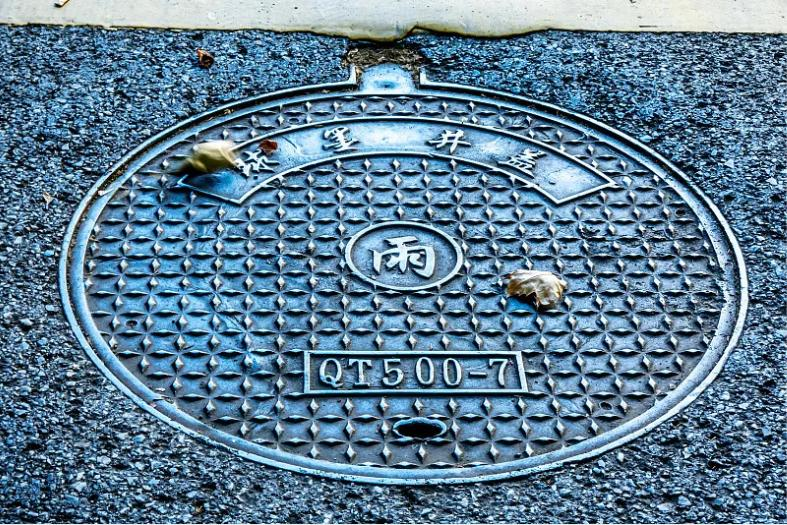wellcover: (85, 36, 745, 483)
